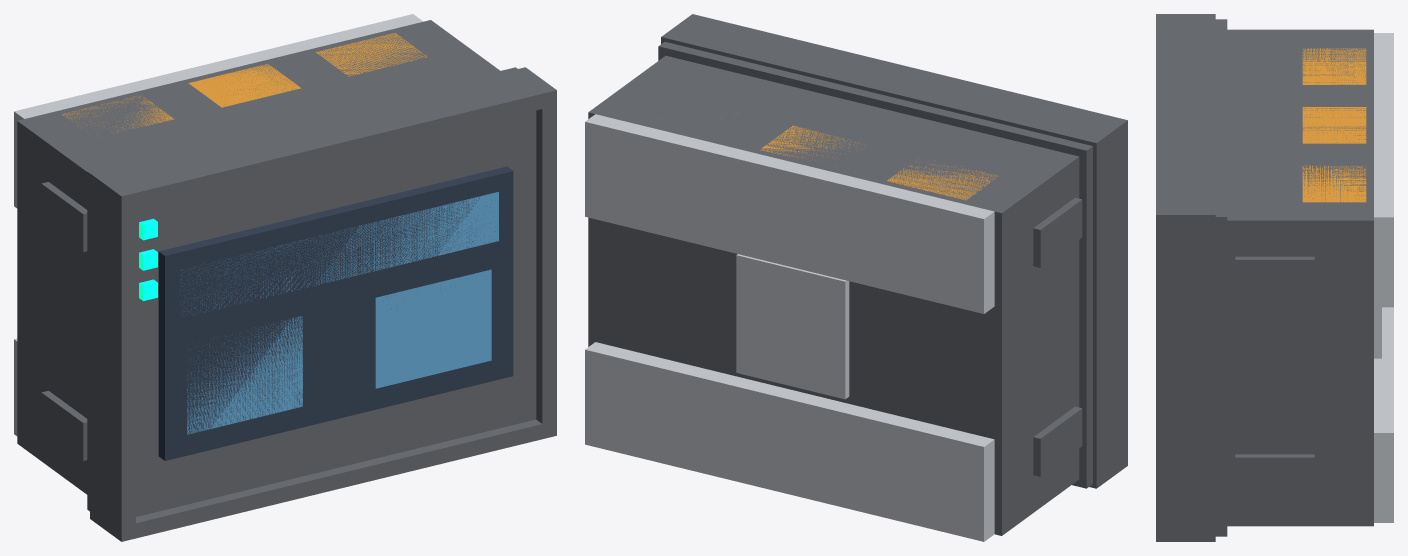
The model's file is CN-X5PRIME-HE-XP5.glb.
The picture shows the model from 3 angles, left to right: view 1: azimuth 30°, elevation 25°; view 2: azimuth 150°, elevation 25°; view 3: azimuth 270°, elevation 25°; orthographic projection. The views are drawn at different scales.
Visible parts, largest first — view 1: Front_Bezel_Housing, Touchscreen_Display, Rear_Enclosure, HMI_Overlay, Connectors_Terminals, DIN_Mount_Geometry, Status_LEDs; view 2: Rear_Enclosure, DIN_Mount_Geometry, Front_Bezel_Housing, Connectors_Terminals; view 3: Rear_Enclosure, Front_Bezel_Housing, DIN_Mount_Geometry, Connectors_Terminals.
Boxes of the visible parts, x1,y1,x2,y2 form: Front_Bezel_Housing: (90, 67, 556, 541); Touchscreen_Display: (158, 166, 513, 460); Rear_Enclosure: (17, 20, 517, 511); HMI_Overlay: (180, 191, 498, 434); Connectors_Terminals: (62, 33, 426, 131); DIN_Mount_Geometry: (14, 14, 422, 435); Status_LEDs: (139, 218, 157, 300); Rear_Enclosure: (588, 42, 1092, 535); DIN_Mount_Geometry: (585, 114, 994, 541); Front_Bezel_Housing: (661, 14, 1127, 488); Connectors_Terminals: (721, 118, 998, 200); Rear_Enclosure: (1215, 19, 1373, 536); Front_Bezel_Housing: (1156, 14, 1215, 541); DIN_Mount_Geometry: (1374, 33, 1393, 522); Connectors_Terminals: (1302, 48, 1366, 202).
Bounding box in the file's own units: 0.12 × 0.091 × 0.06.
